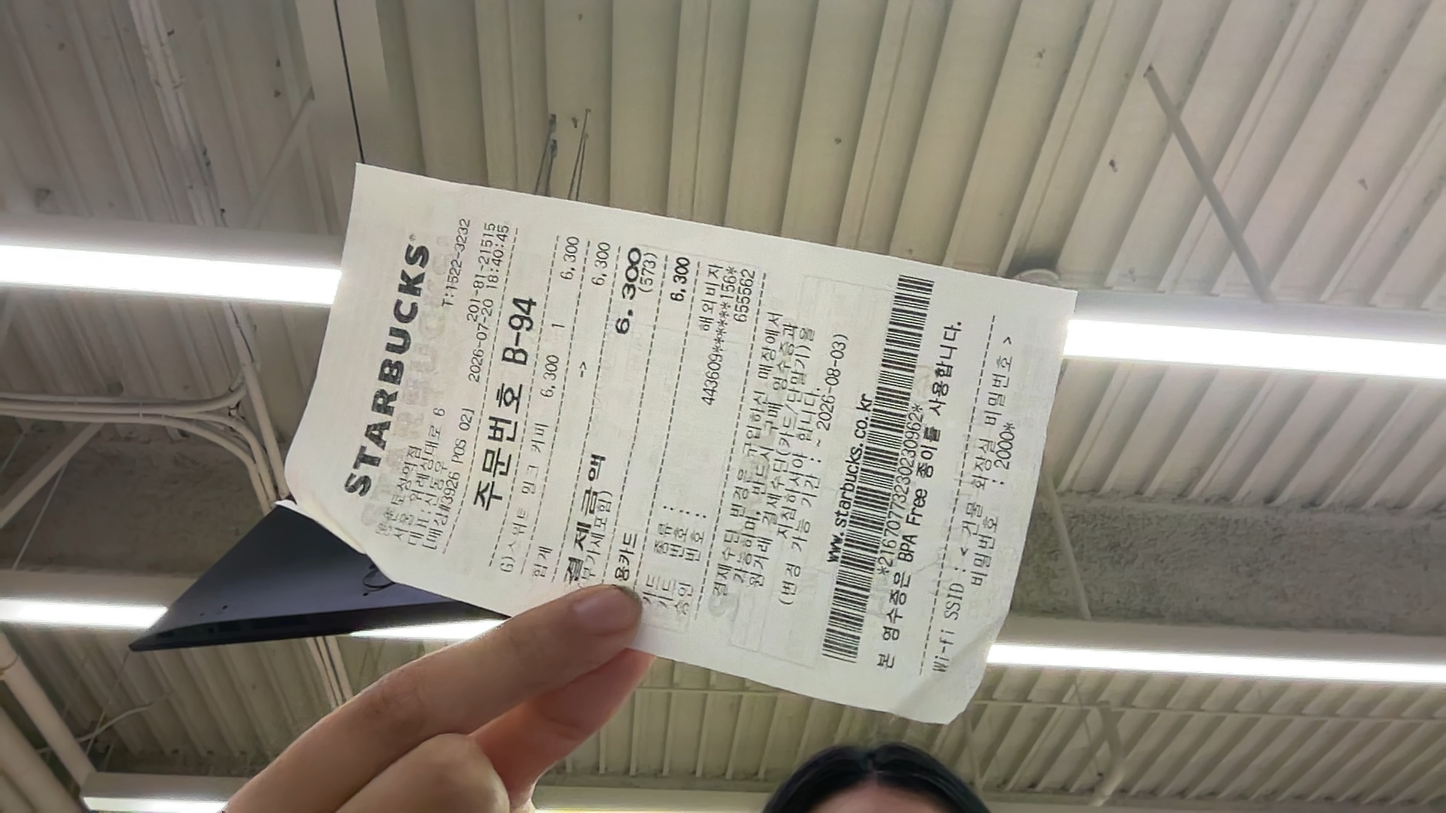Paper: (3, 401, 277, 604)
